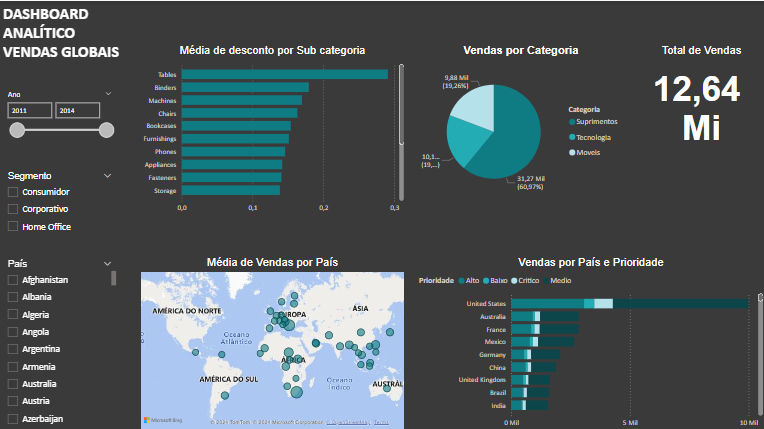

The dashboard page shown, as its layout file describes it:
{"tool":"powerbi","page":{"name":"DASHBOARD ANALÍTICO DE VENDAS GLOBAIS","canvas":[1280,720],"ordinal":0},"visuals":[{"type":"card","title":"Total de Vendas","fields":{"Values":["Sum(dataset.Total_Vendas)"]},"box":[1069.1,71.8,205.5,178.7],"z":0},{"type":"pieChart","title":"Vendas por Categoria","fields":{"Category":["dataset.Categoria"],"Y":["CountNonNull(dataset.ID_Pedido)"]},"box":[694.9,71.8,350.8,272.3],"z":1000},{"type":"barChart","title":"Vendas por País e Prioridade","fields":{"Category":["dataset.Pais"],"Series":["dataset.Prioridade"],"Y":["CountNonNull(dataset.ID_Pedido)"]},"box":[694.9,426,584.7,294],"z":2000},{"type":"barChart","title":"Média de desconto por Sub categoria","fields":{"Category":["dataset.SubCategoria"],"Y":["Avg(dataset.Desconto)"]},"box":[230.5,71.8,449.4,289],"z":3000},{"type":"map","title":"Média de Vendas por País","fields":{"Category":["dataset.Pais"],"Size":["Avg(dataset.Total_Vendas)"]},"box":[230.5,426,449.4,294],"z":4000},{"type":"slicer","fields":{"Values":["dataset.Pais"]},"box":[0,426,198.8,294],"z":5000},{"type":"slicer","fields":{"Values":["dataset.Segmento"]},"box":[0,279,198.8,130.3],"z":6000},{"type":"slicer","fields":{"Values":["dataset.Data_Pedido.Variation.Hierarquia de datas.Ano"]},"box":[0,143.7,198.8,120.3],"z":7000},{"type":"textbox","box":[0,0,230.5,143.7],"z":8000}]}

Visuals, with their boxes in screenshot pixels (x1, y1, x2, y2), scaled from the page's 1280x720 canvas onto the 764x429 screenshot:
"Total de Vendas" card: bbox(638, 43, 761, 149)
"Vendas por Categoria" pieChart: bbox(415, 43, 624, 205)
"Vendas por País e Prioridade" barChart: bbox(415, 254, 763, 428)
"Média de desconto por Sub categoria" barChart: bbox(138, 43, 406, 215)
"Média de Vendas por País" map: bbox(138, 254, 406, 428)
slicer - dataset.Pais: bbox(0, 254, 119, 428)
slicer - dataset.Segmento: bbox(0, 166, 119, 244)
slicer - dataset.Data_Pedido.Variation.Hierarquia de datas.Ano: bbox(0, 86, 119, 157)
textbox: bbox(0, 0, 138, 86)
